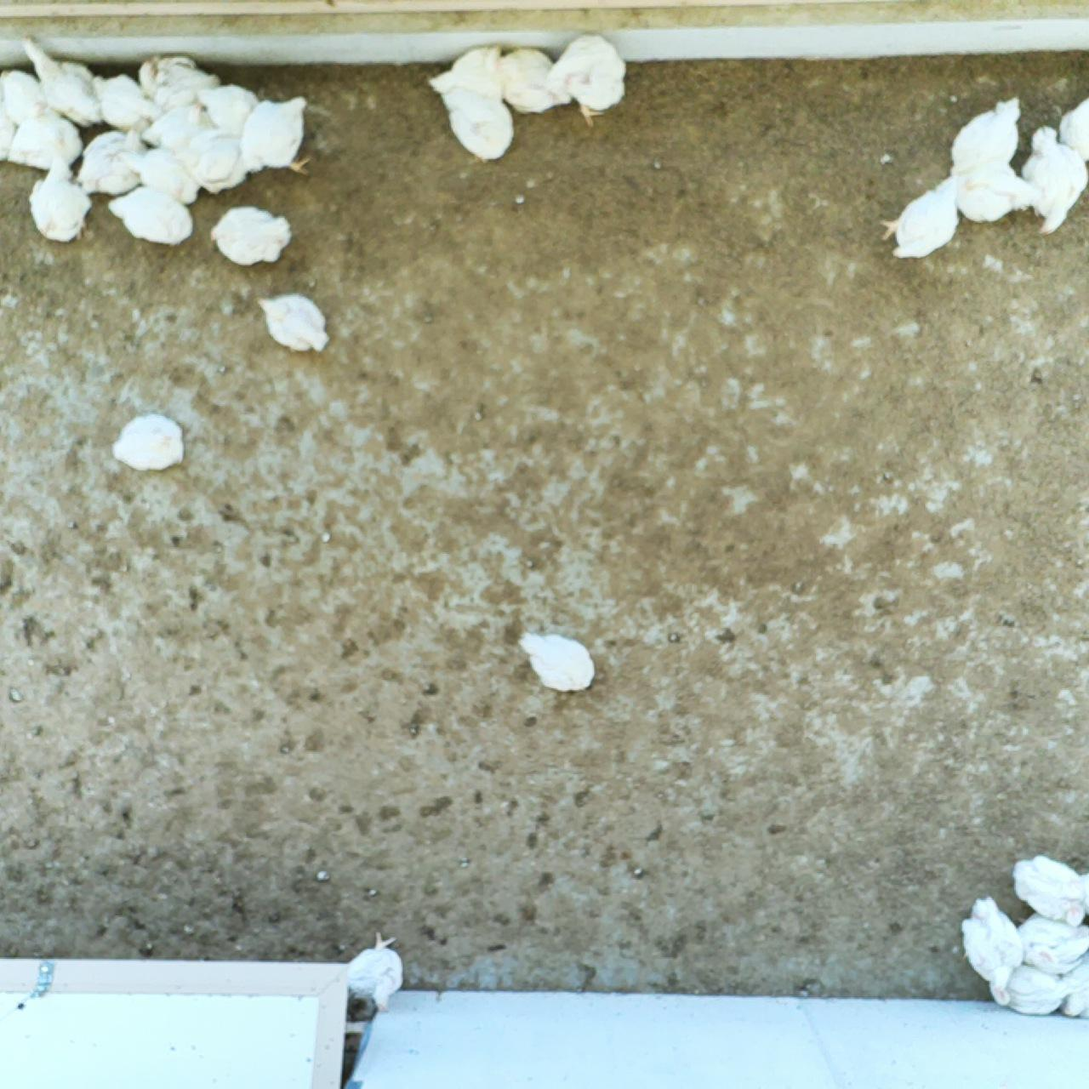chicken: (1016, 121, 1089, 241), (23, 30, 108, 126), (878, 174, 966, 262), (234, 92, 313, 180), (551, 32, 624, 124), (951, 93, 1021, 188), (958, 893, 1015, 1005), (75, 113, 148, 200), (434, 86, 517, 161), (1007, 852, 1089, 924), (492, 43, 569, 117), (947, 164, 1036, 228), (111, 184, 195, 251), (9, 102, 86, 172), (208, 205, 291, 269), (30, 158, 92, 243), (249, 289, 331, 352), (345, 933, 407, 1016), (115, 145, 202, 203), (108, 412, 188, 475), (1011, 909, 1089, 972), (517, 629, 594, 692), (88, 67, 165, 130), (177, 127, 252, 191), (137, 94, 220, 150), (433, 41, 507, 103), (141, 54, 218, 110), (194, 79, 260, 139), (999, 960, 1067, 1018), (0, 60, 47, 128), (1051, 950, 1089, 1019), (1058, 93, 1089, 173), (0, 90, 15, 161)
